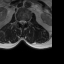CCS_normal: (21, 18, 23, 26)
LFS_normal: (25, 19, 28, 25)
LLS_normal: (23, 18, 25, 25)
RFS_normal: (17, 18, 19, 25)
RLS_normal: (19, 18, 21, 25)
